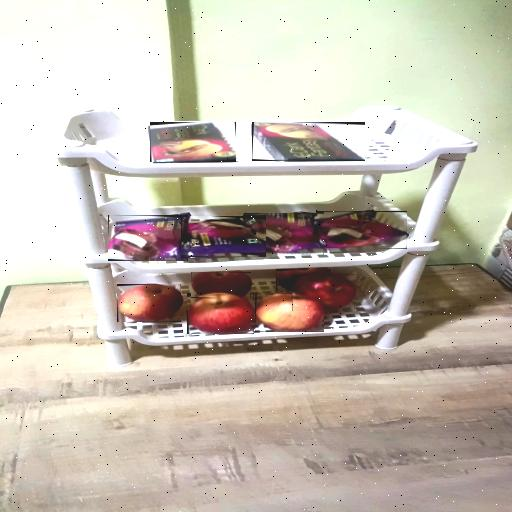Apple: (187, 293, 254, 334), (255, 293, 324, 332), (117, 284, 181, 322), (292, 275, 355, 310), (191, 272, 251, 298), (276, 269, 331, 291)
Choco Fills: (252, 122, 365, 161), (150, 122, 236, 162)
Choco Pie: (108, 215, 188, 261), (316, 212, 407, 250), (244, 214, 324, 256), (181, 218, 266, 256)
